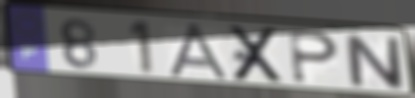1: (127, 19, 156, 77)
8: (59, 18, 100, 71)
A: (165, 22, 235, 82)
N: (341, 32, 409, 92)
P: (286, 28, 342, 86)
X: (227, 24, 288, 84)
